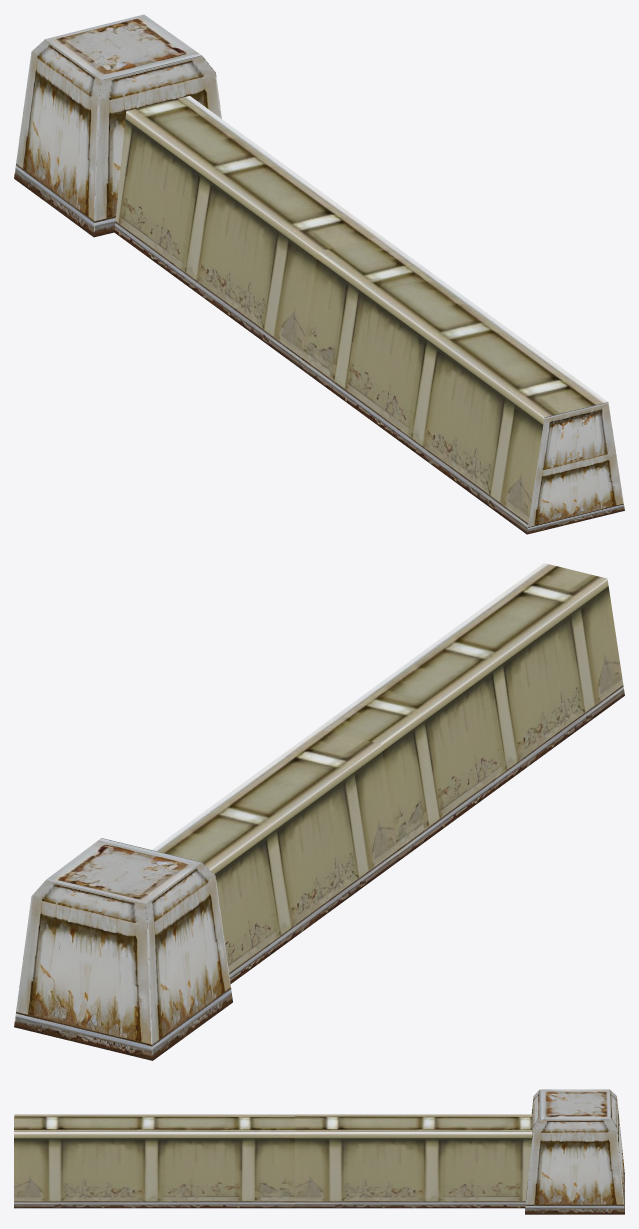
File: d_lightwall_hdtex.glb
3 views of the same model, one above another, from view 1: azimuth 30°, elevation 25°; view 2: azimuth 150°, elevation 25°; view 3: azimuth 270°, elevation 25° (orthographic). The views are drawn at different scales.
Visible parts, largest first — view 1: DavionLightwallSquat; view 2: DavionLightwallSquat; view 3: DavionLightwallSquat.
Boxes of the visible parts, x1,y1,x2,y2 form: DavionLightwallSquat: (14, 14, 624, 534); DavionLightwallSquat: (14, 563, 624, 1060); DavionLightwallSquat: (14, 1089, 624, 1214).
Size of the model in its own units: 4.54 by 4.49 by 27.88.
1 material, 1 textured.
